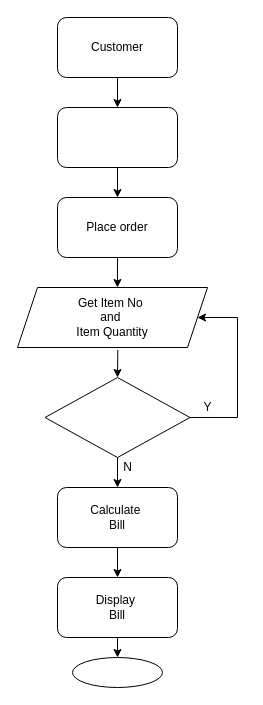
Image size: 263x705. Some labels were removed from this diagram. The centre of each missing label's shape, as x and y in pixels:
Display Order Menu: the point at 117,137
IS to add another product: the point at 117,417
STOP: the point at 117,672
